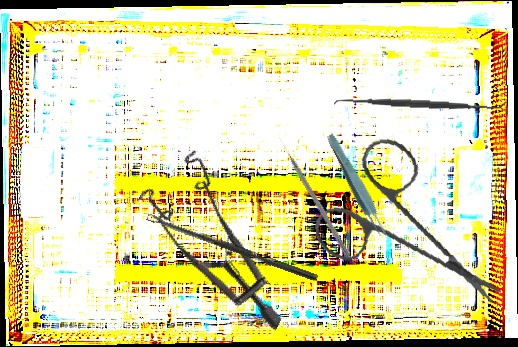Iris Scissors: (304, 125, 503, 328)
Pusher: (276, 135, 354, 260)
Spatula Surgical: (333, 89, 507, 118)
Speculum: (112, 137, 332, 332)
Surgical Spoon: (146, 212, 319, 282)
Tissue Forceps: (322, 131, 391, 241)
